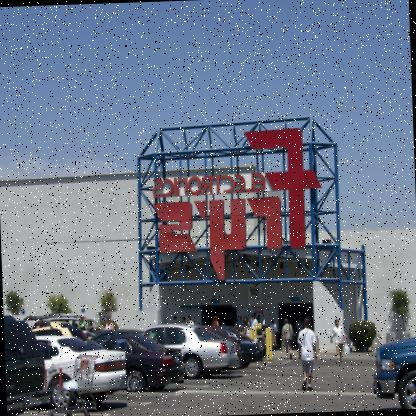Car: (4, 306, 269, 415), (33, 332, 127, 412), (86, 332, 184, 392), (4, 320, 55, 415), (150, 328, 238, 382), (370, 335, 415, 411), (212, 329, 263, 369), (31, 328, 87, 349)
